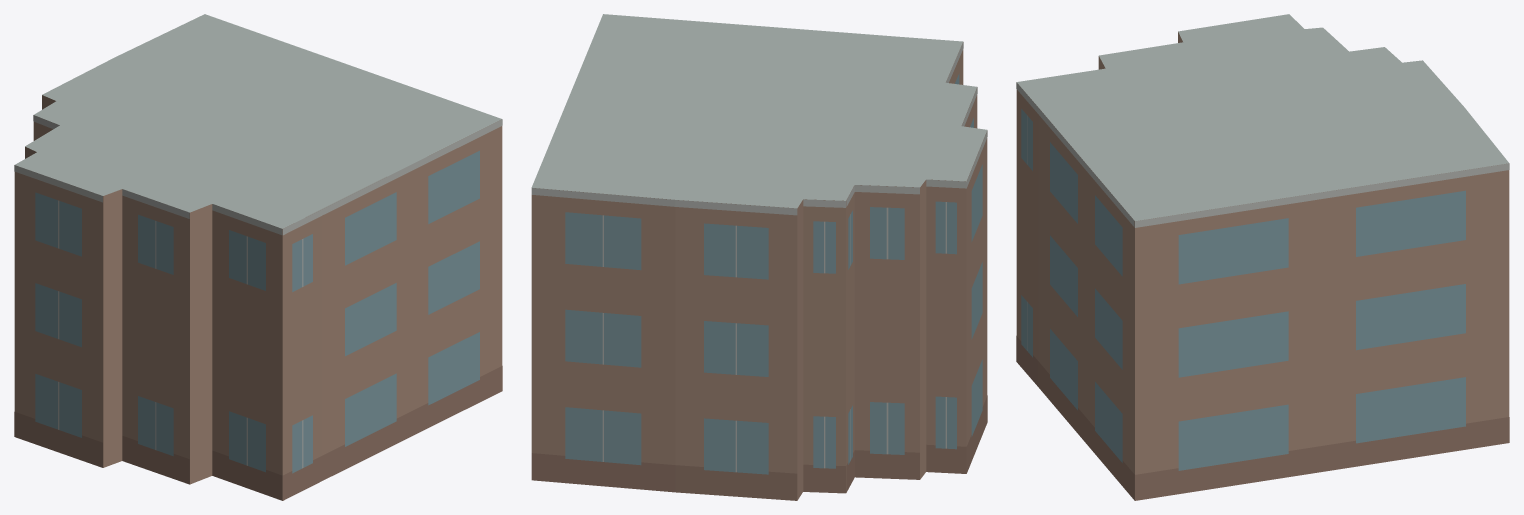
Rendered from survey-upis-32855610.glb.
3 renders of one model, left to right at view 1: azimuth 30°, elevation 25°; view 2: azimuth 150°, elevation 25°; view 3: azimuth 270°, elevation 25°, orthographic. The views are drawn at different scales.
Parts seen in each view (by area): view 1: survey-upis-32855610.tmp; view 2: survey-upis-32855610.tmp; view 3: survey-upis-32855610.tmp.
Part boxes in pixels (x1,y1,x2,y2): survey-upis-32855610.tmp: (14,14,502,500); survey-upis-32855610.tmp: (531,14,987,500); survey-upis-32855610.tmp: (1016,14,1509,500).
Size of the model in its own units: 16.06 by 10.1 by 16.15.
